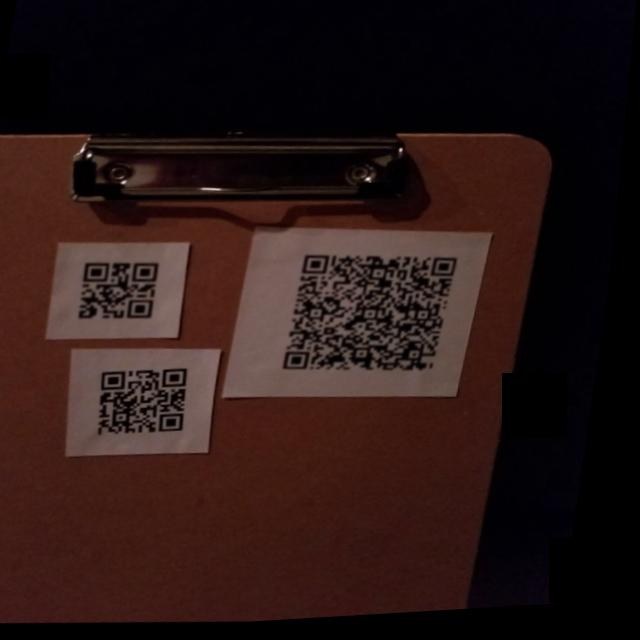QR_CODE: (278, 235, 476, 392), (89, 356, 212, 455), (67, 243, 181, 338)
